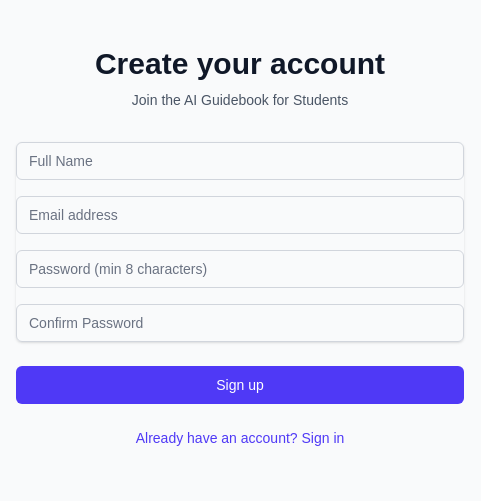
Signup page › shows validation error when passwords do not match
The image size is (481, 501).
Type "Jane" into the field with placeholder "Full Name" at (240, 161), box [16,142,464,180]
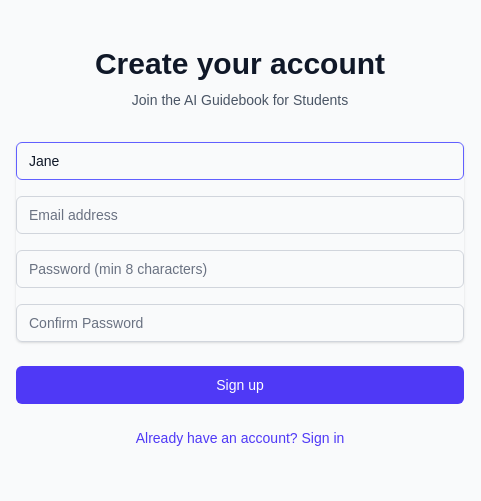
Type "jane@test.edu" into the field with placeholder "Email address" at (240, 215), box [16,196,464,234]
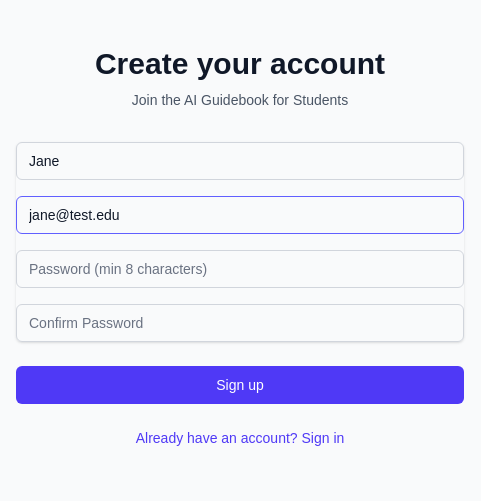
Type "password123" into the password field with placeholder "Password (min 8 characters)" at (240, 269), box [16,250,464,288]
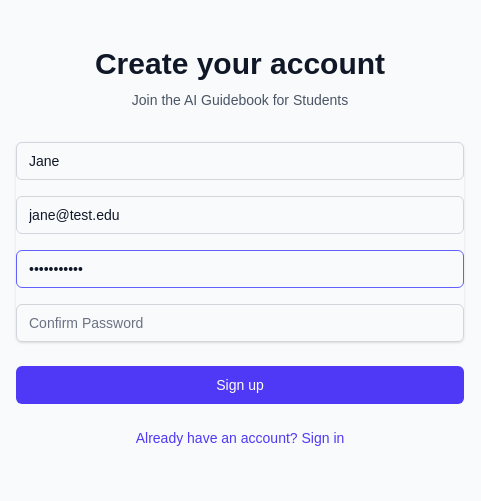
Type "different123" into the password field with placeholder "Confirm Password" at (240, 323), box [16,304,464,342]
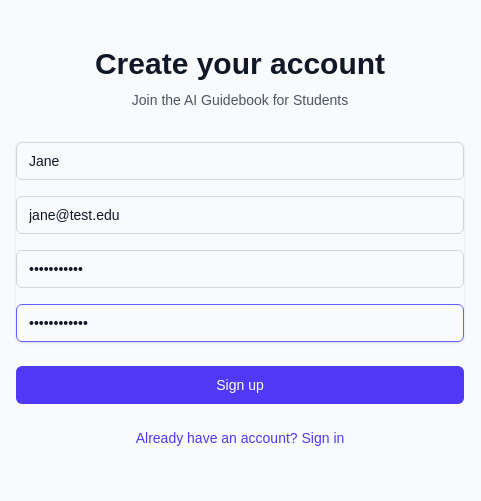
Click the button "Sign up" at (240, 385), box [16,366,464,404]
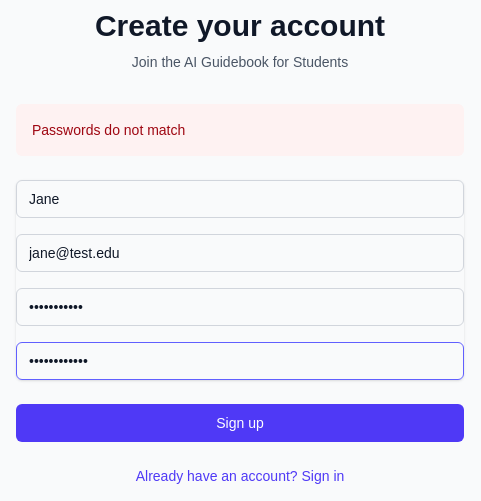
Result: the text "Passwords do not match" is shown at [32,122,185,138]
